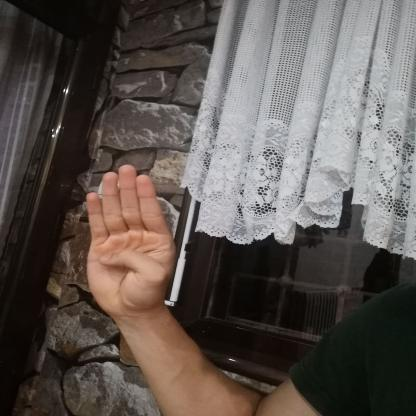KAAF: (66, 154, 194, 327)
